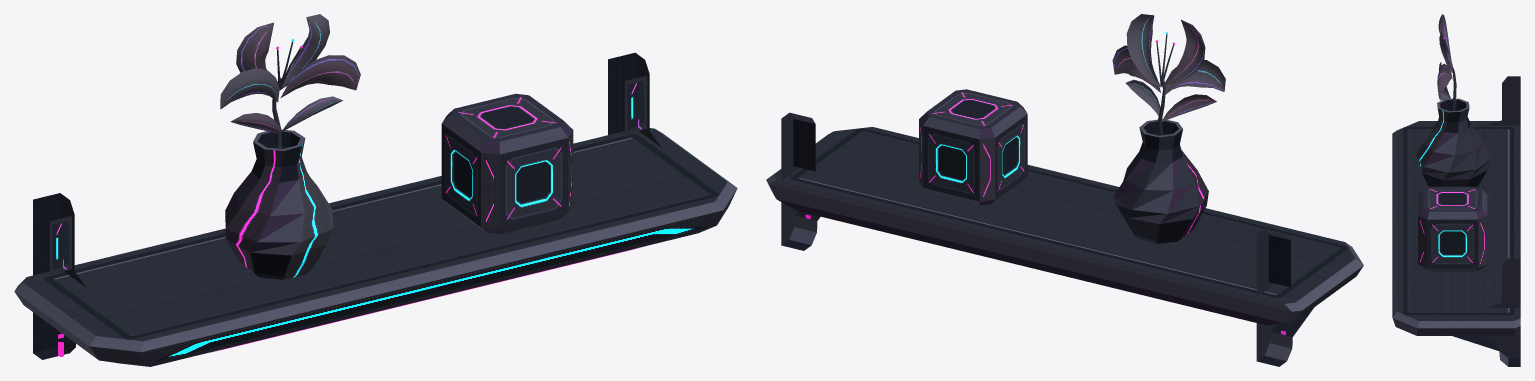
Rendered from shelf-v1.glb.
3 views of the same model, side by side, from view 1: azimuth 30°, elevation 25°; view 2: azimuth 150°, elevation 25°; view 3: azimuth 270°, elevation 25° (orthographic). The views are drawn at different scales.
Parts seen in each view (by area): view 1: shelf_board, vase, shelf_cube; view 2: shelf_board, vase, shelf_cube; view 3: shelf_board, shelf_cube, vase.
Part boxes in pixels (left/top/right/bottom): shelf_board: left=14, top=52, right=737, bottom=366; vase: left=220, top=14, right=360, bottom=279; shelf_cube: left=441, top=93, right=573, bottom=234; shelf_board: left=766, top=112, right=1363, bottom=366; vase: left=1112, top=14, right=1225, bottom=243; shelf_cube: left=919, top=89, right=1027, bottom=205; shelf_board: left=1392, top=76, right=1520, bottom=366; shelf_cube: left=1418, top=186, right=1487, bottom=271; vase: left=1416, top=14, right=1490, bottom=187.
Bounding box in the file's own units: 1.19 × 0.5819 × 0.3134.
Materials: 1 (1 with a texture image).
